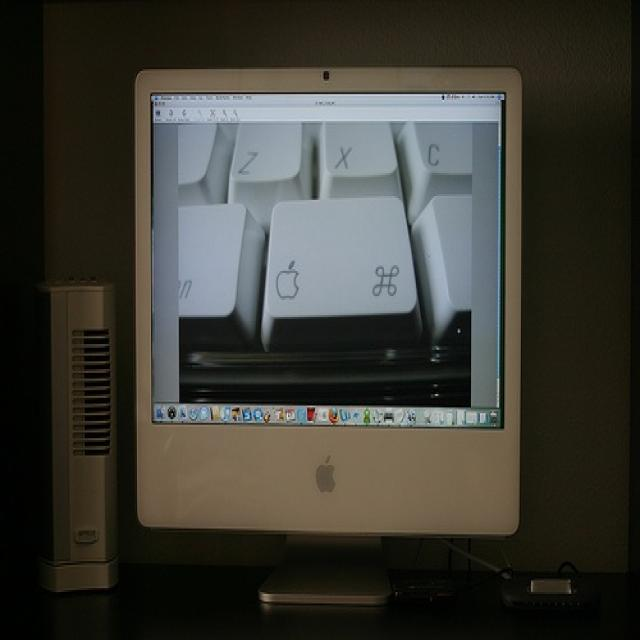tvmonitor: (133, 60, 522, 615)
